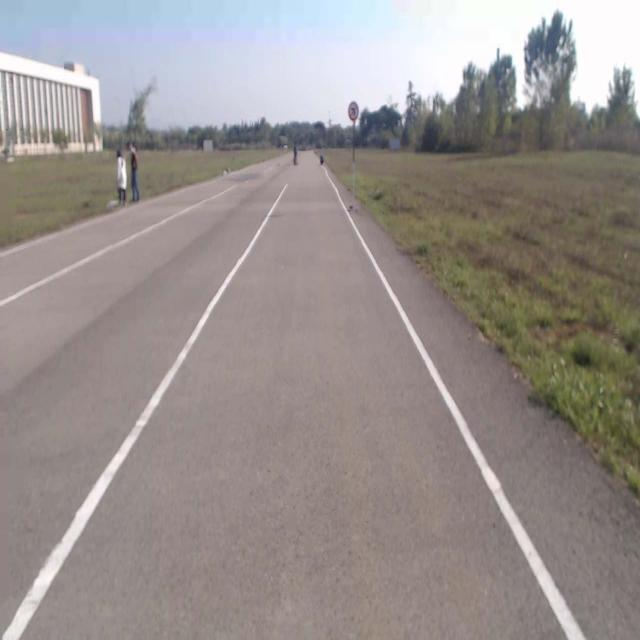soladonulmez: (348, 102, 358, 120)
